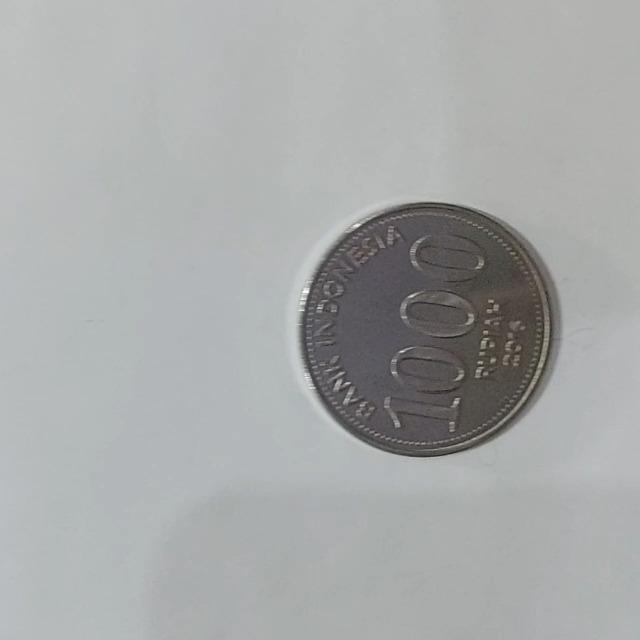Rp100: (296, 198, 555, 458)
